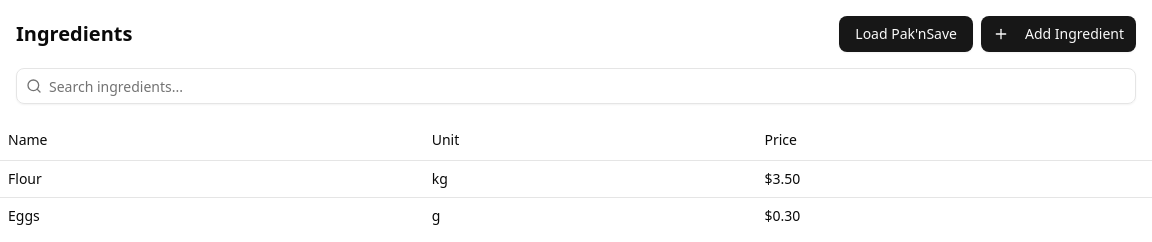
Test: IngredientList › switches to scrape mode and displays scraped ingredients
Click the button "Load Pak'nSave": (906,34) [839,16,973,52]
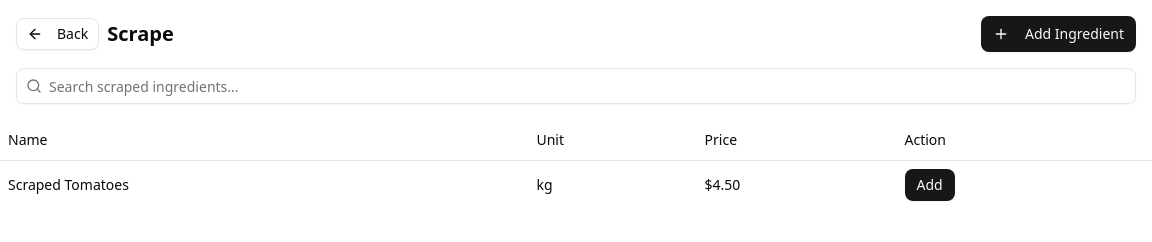
Now the heading "Scrape" is shown, box [107,20,174,48]
Now the text "Scraped Tomatoes" is shown, box [0,160,528,208]
Now the button "Add" is shown, box [904,168,955,200]
